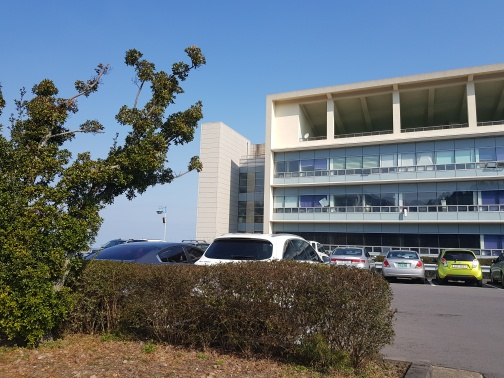Engineering College Building 4: (197, 80, 502, 237), (267, 93, 504, 235)
